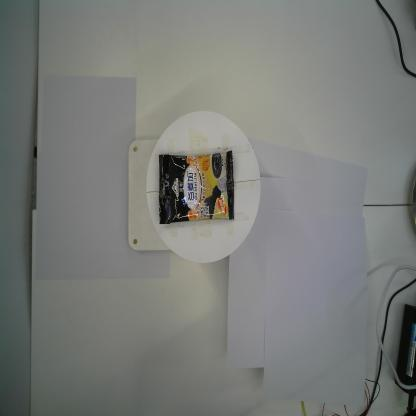Instant Drink: (159, 150, 234, 225)
